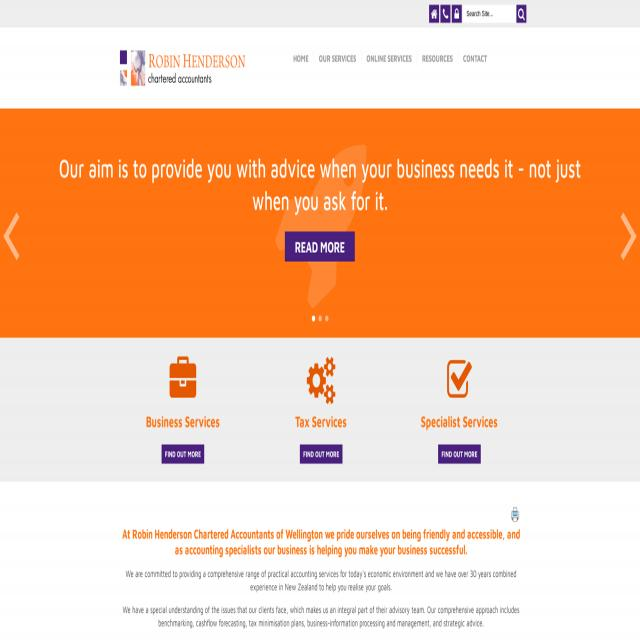button: (120, 51, 246, 86), (284, 232, 355, 262), (618, 198, 638, 270), (362, 51, 417, 66), (162, 444, 204, 463), (300, 444, 342, 463), (438, 444, 480, 463), (3, 213, 19, 260), (314, 51, 362, 66), (418, 51, 458, 68), (459, 51, 493, 69), (288, 51, 314, 66), (516, 5, 526, 23), (429, 5, 439, 23), (440, 5, 450, 23), (452, 5, 462, 23), (511, 507, 519, 522), (311, 314, 316, 322), (318, 314, 322, 322), (325, 314, 329, 322)
field: (463, 5, 517, 23)
